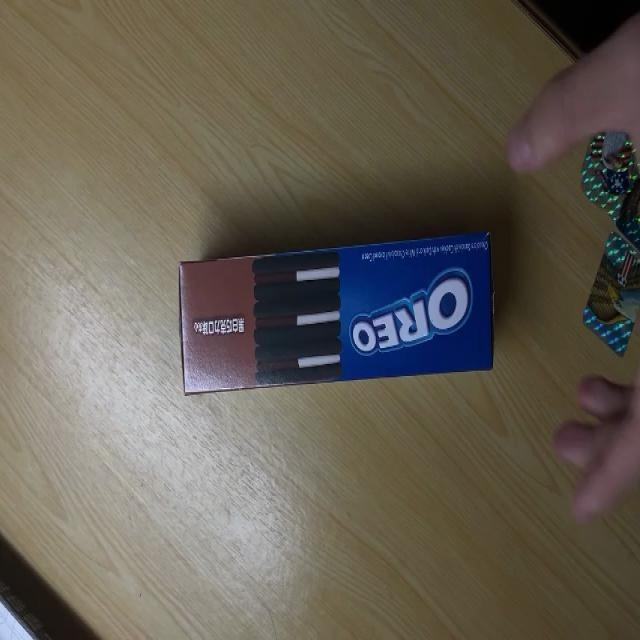Oreo: (178, 238, 495, 396)
